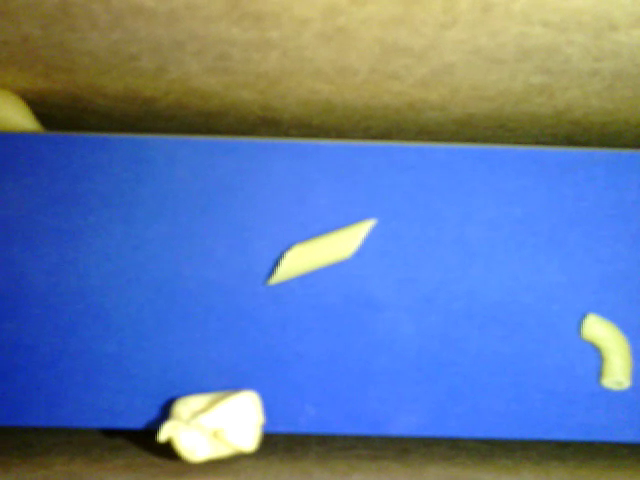elbow: (581, 312, 633, 388)
penne: (268, 218, 376, 284)
tortellini: (155, 388, 266, 465)
